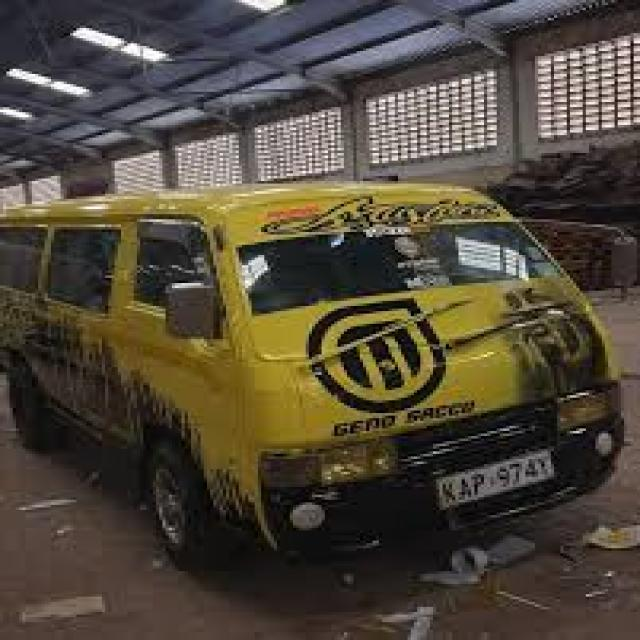matatu: (0, 148, 630, 602)
